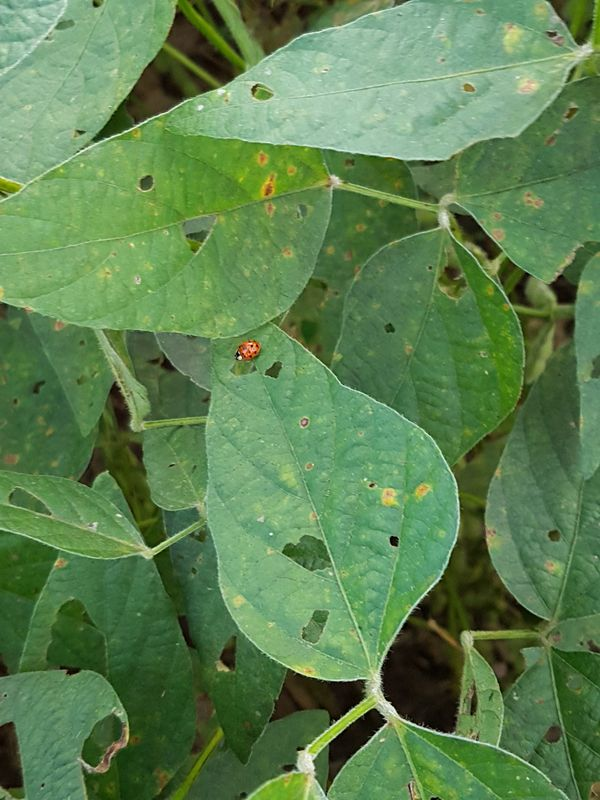Coccinellidae: (227, 334, 269, 368)
